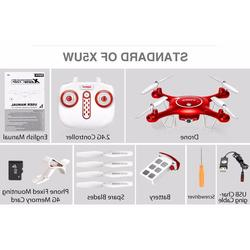drone: (132, 72, 246, 134)
